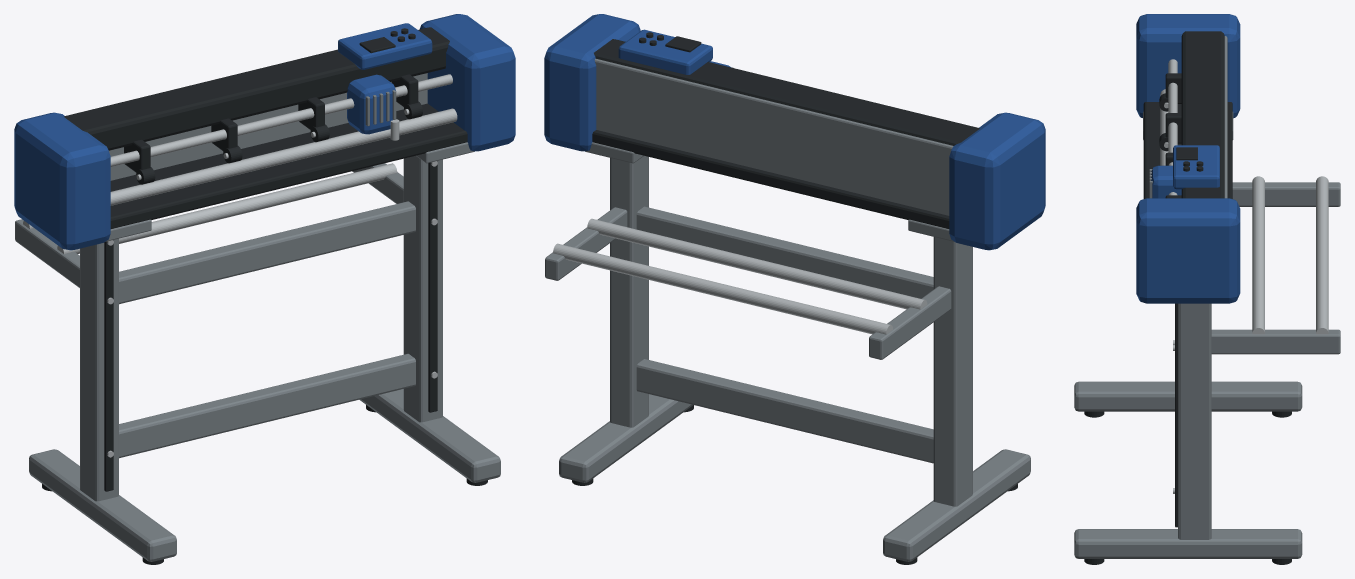
Rendered from full.fbx.
3 views of the same model, side by side, from view 1: azimuth 30°, elevation 25°; view 2: azimuth 150°, elevation 25°; view 3: azimuth 270°, elevation 25° (orthographic). The views are drawn at different scales.
Visible parts, largest first — view 1: Long upper rail housing, Feed chassis, Rounded end housing -0.65, Lower crossbrace, Upper crossbrace, Rounded end housing 0.65, Stand leg -0.52, Stand leg 0.52, Broad foot -0.52, Feed roller, Broad foot 0.52, Rail rear bridge (+8 smaller); view 2: Rail rear bridge, Rounded end housing -0.65, Lower crossbrace, Stand leg -0.52, Stand leg 0.52, Long upper rail housing, Upper crossbrace, Rounded end housing 0.65, Broad foot -0.52, Feed chassis, Rear media support roller 0.21, Rear media support roller 0.4 (+4 smaller); view 3: Rounded end housing 0.65, Stand leg 0.52, Broad foot 0.52, Broad foot -0.52, Long upper rail housing, Rounded end housing -0.65, Rear media bracket 0.52, Rear media bracket -0.52, Rear media support roller 0.21, Rear media support roller 0.4, Feed chassis, Top control console (+4 smaller).
Part boxes in pixels (bbox=[...]): Long upper rail housing: bbox=[64, 27, 449, 150]; Feed chassis: bbox=[110, 103, 467, 228]; Rounded end housing -0.65: bbox=[14, 112, 110, 250]; Lower crossbrace: bbox=[119, 353, 415, 458]; Upper crossbrace: bbox=[119, 201, 415, 304]; Rounded end housing 0.65: bbox=[419, 14, 515, 151]; Stand leg -0.52: bbox=[80, 238, 118, 501]; Stand leg 0.52: bbox=[403, 155, 442, 422]; Broad foot -0.52: bbox=[29, 449, 176, 561]; Feed roller: bbox=[110, 108, 457, 205]; Broad foot 0.52: bbox=[359, 389, 500, 482]; Rail rear bridge: bbox=[109, 73, 427, 180]; Rail rear bridge: bbox=[594, 58, 953, 215]; Rounded end housing -0.65: bbox=[949, 112, 1045, 250]; Lower crossbrace: bbox=[636, 359, 933, 463]; Stand leg -0.52: bbox=[933, 237, 972, 506]; Stand leg 0.52: bbox=[610, 155, 648, 427]; Long upper rail housing: bbox=[594, 39, 979, 145]; Upper crossbrace: bbox=[636, 206, 933, 298]; Rounded end housing 0.65: bbox=[544, 14, 640, 151]; Broad foot -0.52: bbox=[883, 449, 1030, 561]; Feed chassis: bbox=[592, 130, 949, 228]; Rear media support roller 0.21: bbox=[587, 218, 927, 309]; Rear media support roller 0.4: bbox=[553, 243, 892, 334]; Rounded end housing 0.65: bbox=[1136, 198, 1240, 303]; Stand leg 0.52: bbox=[1178, 303, 1211, 539]; Broad foot 0.52: bbox=[1074, 529, 1302, 558]; Broad foot -0.52: bbox=[1074, 381, 1302, 411]; Long upper rail housing: bbox=[1181, 31, 1224, 198]; Rounded end housing -0.65: bbox=[1136, 14, 1240, 118]; Rear media bracket 0.52: bbox=[1211, 329, 1340, 354]; Rear media bracket -0.52: bbox=[1232, 182, 1340, 206]; Rear media support roller 0.21: bbox=[1252, 176, 1264, 334]; Rear media support roller 0.4: bbox=[1316, 176, 1328, 334]; Feed chassis: bbox=[1143, 102, 1232, 198]; Top control console: bbox=[1173, 145, 1219, 189].
Bounding box in the file's own units: 146 × 127 × 79.5.
